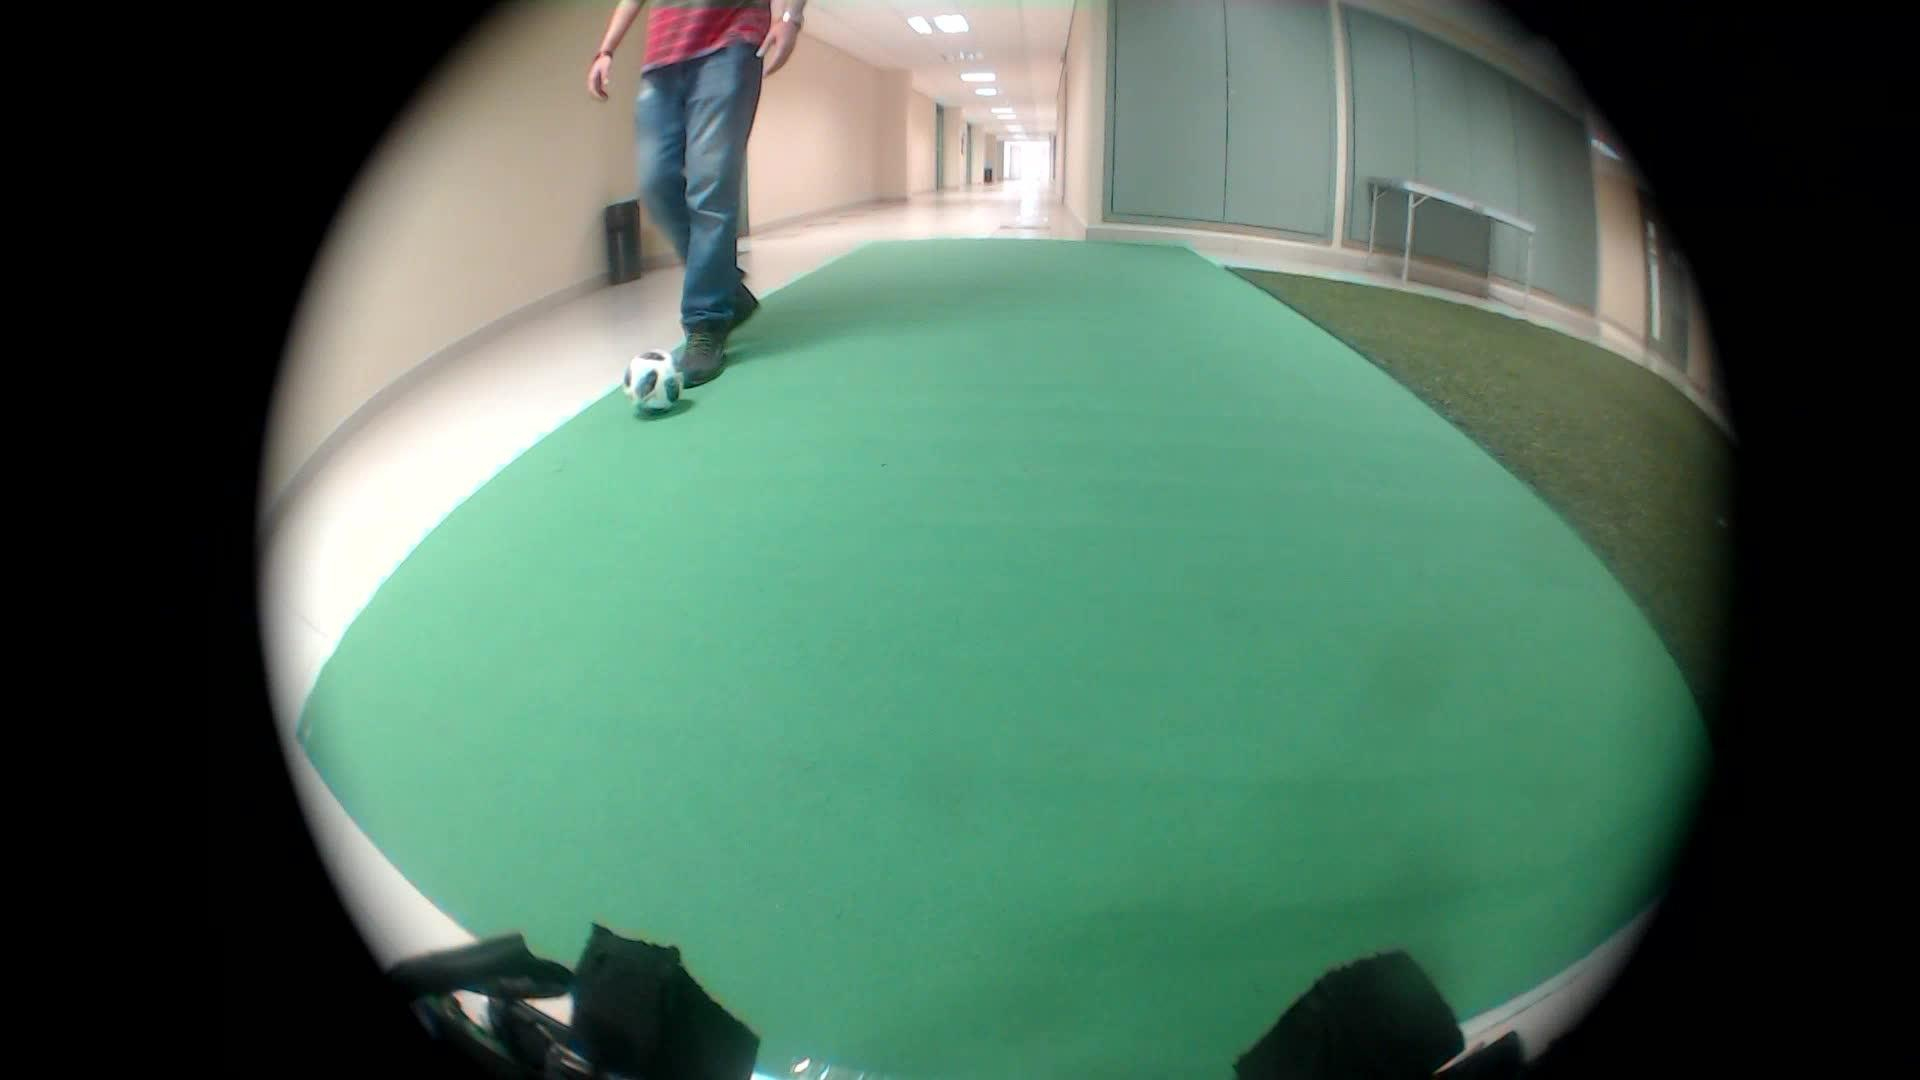ball: (613, 345, 690, 419)
